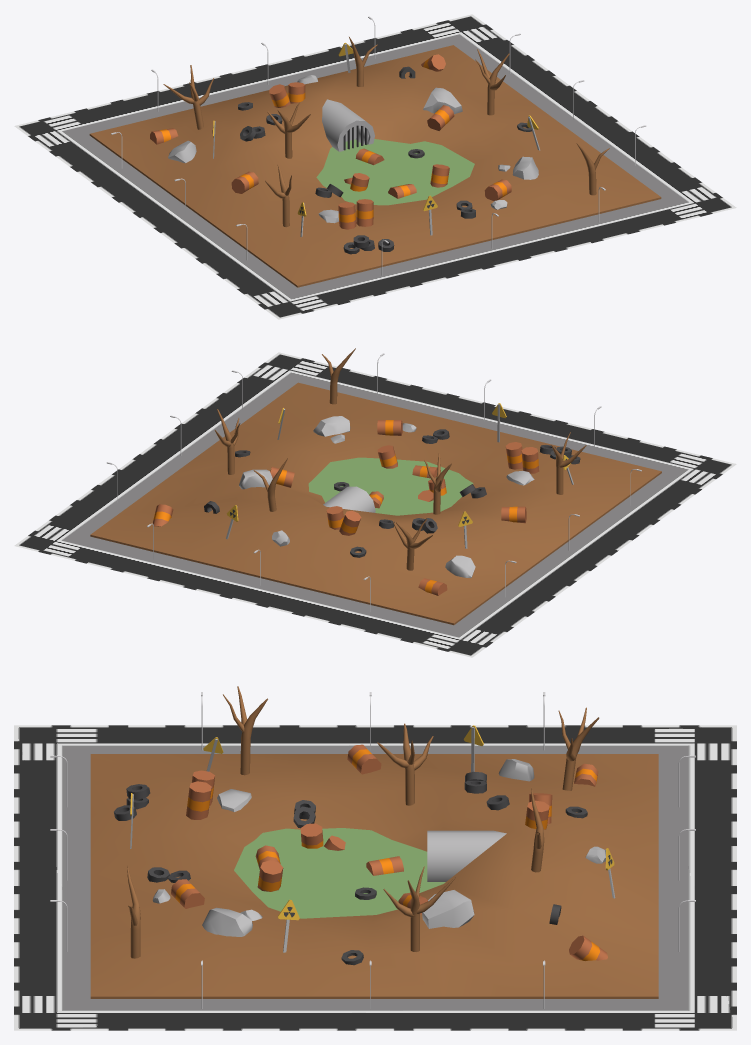
File: GarbahedumpArea.fbx
3 renders of one model, top to bottom at view 1: azimuth 30°, elevation 25°; view 2: azimuth 150°, elevation 25°; view 3: azimuth 270°, elevation 25°, orthographic. The views are drawn at different scales.
Parts seen in each view (by area): view 1: GarbahedumpArea; view 2: GarbahedumpArea; view 3: GarbahedumpArea.
Part boxes in pixels (box(x1,y1,x2,y2)): GarbahedumpArea: box(14, 14, 736, 319); GarbahedumpArea: box(14, 348, 736, 657); GarbahedumpArea: box(14, 686, 736, 1030).
Bounding box in the file's own units: 1000 × 200 × 1000.
Materials: 2 (2 with a texture image).
